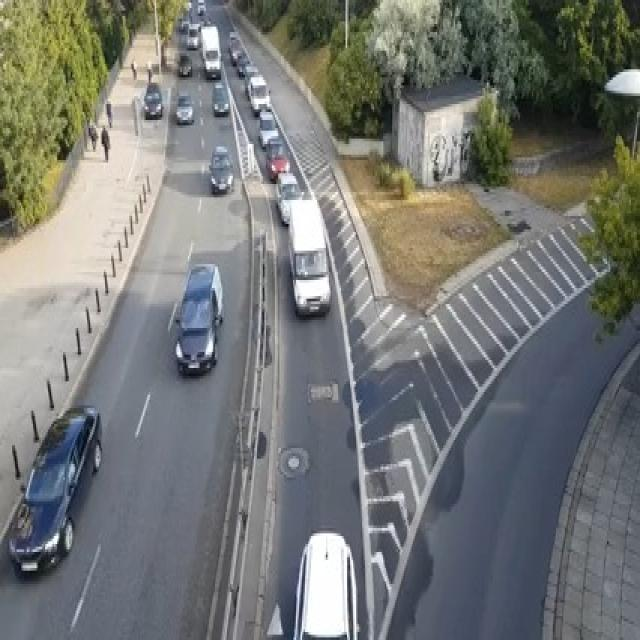car: (8, 403, 102, 576), (292, 528, 359, 637), (175, 261, 222, 376), (287, 198, 330, 318), (275, 171, 303, 224), (207, 144, 233, 192), (264, 136, 290, 181), (247, 72, 270, 115), (257, 106, 278, 146), (143, 83, 162, 117), (174, 93, 194, 123), (212, 80, 228, 115), (227, 35, 243, 64), (244, 62, 258, 94), (185, 21, 200, 48), (178, 50, 192, 74), (236, 50, 249, 74), (197, 0, 206, 13)
